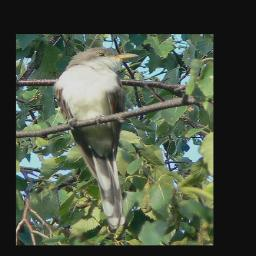Cuckoo: (55, 45, 139, 231)
